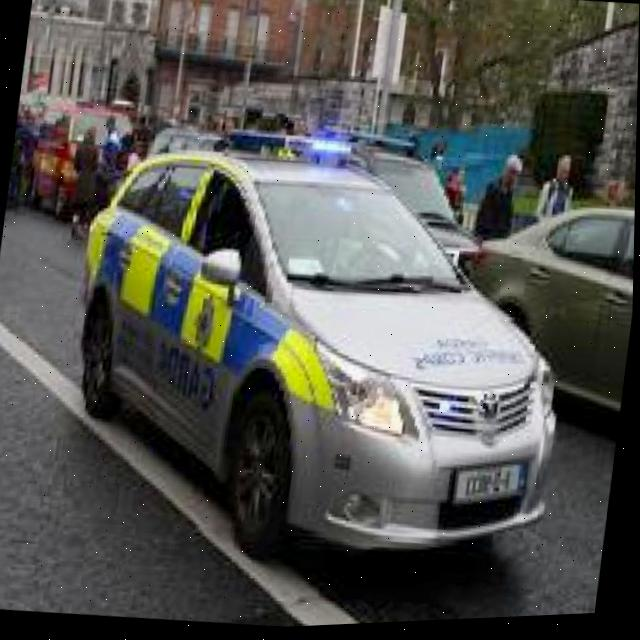emergency: (46, 109, 596, 597)
